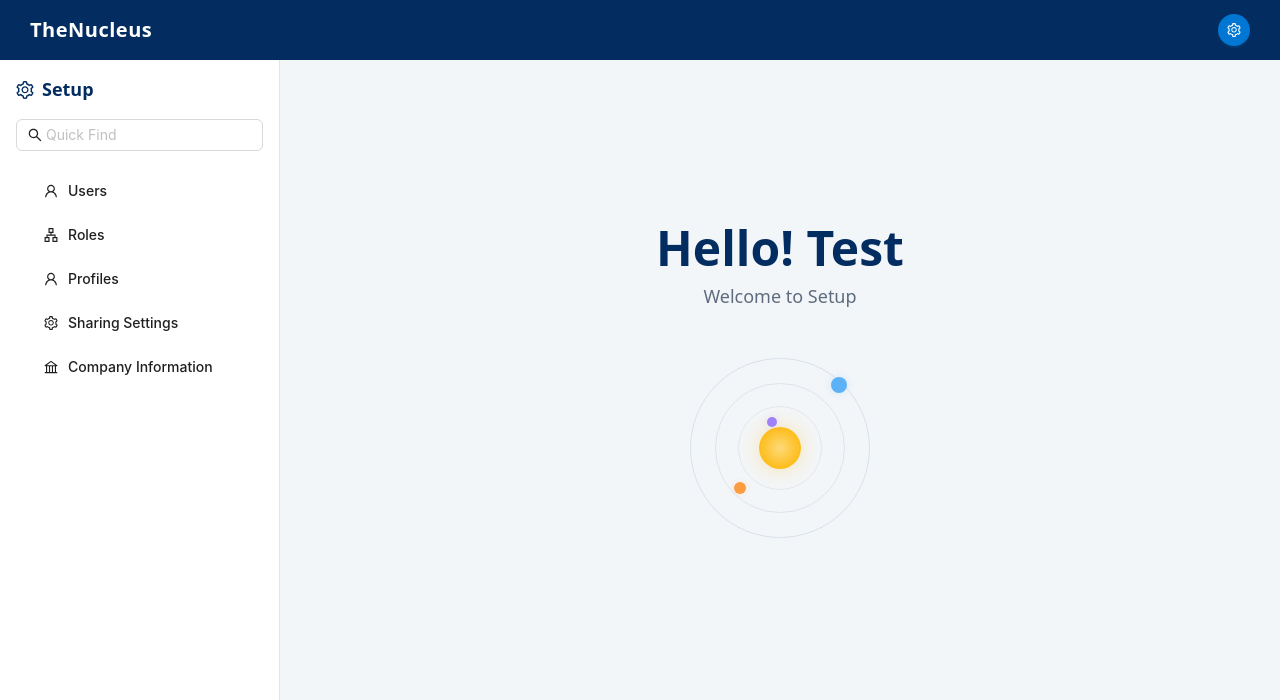
Test case: Setup › renders Company Information section when Company Information is clicked
Click the menu item "Company Information" at (128, 366), box left=44, top=358, right=213, bottom=375
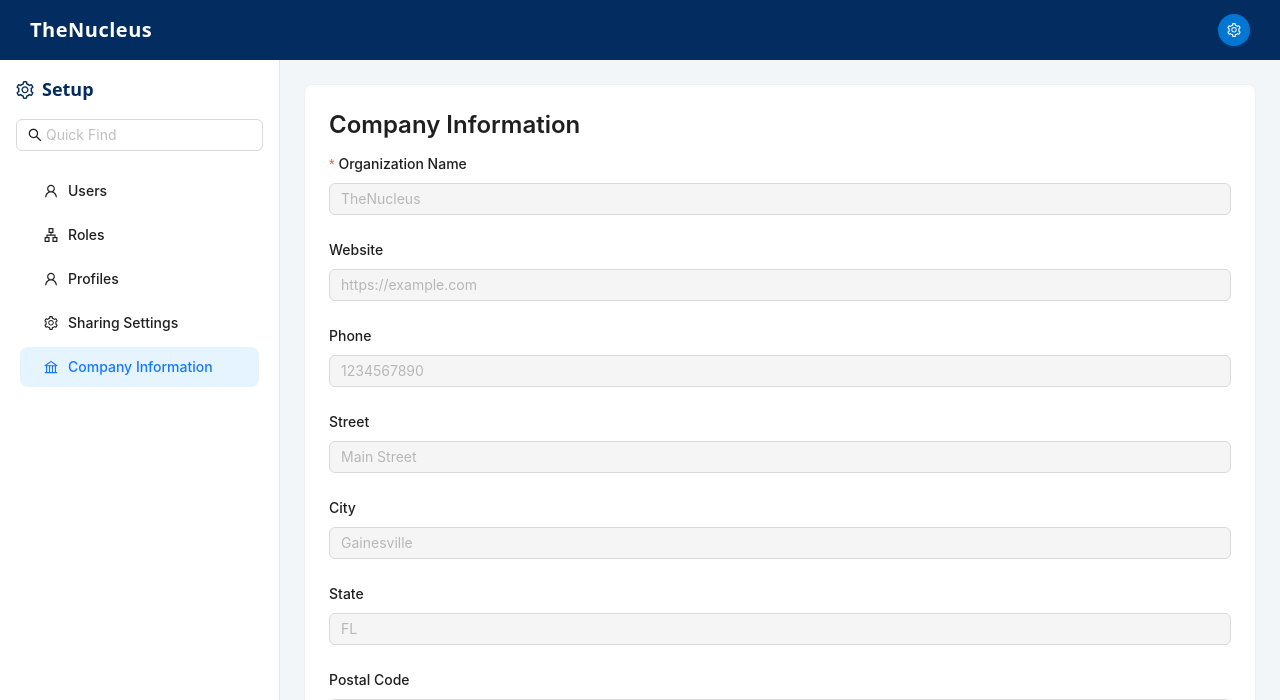
Check: the field showing "TheNucleus" is shown, box left=329, top=183, right=1231, bottom=215
